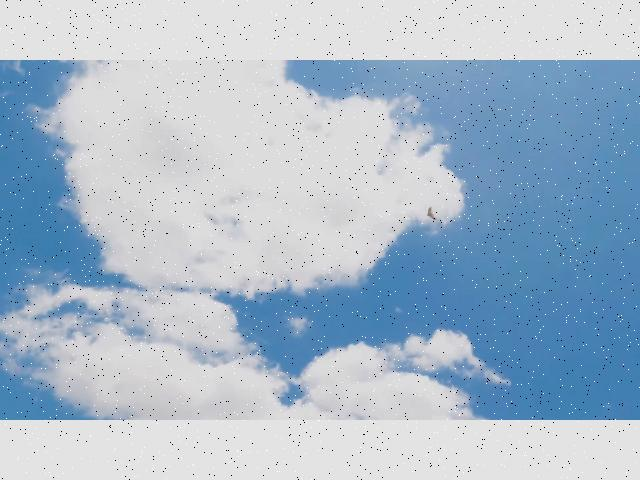Anti-Drone: (418, 199, 444, 230)
